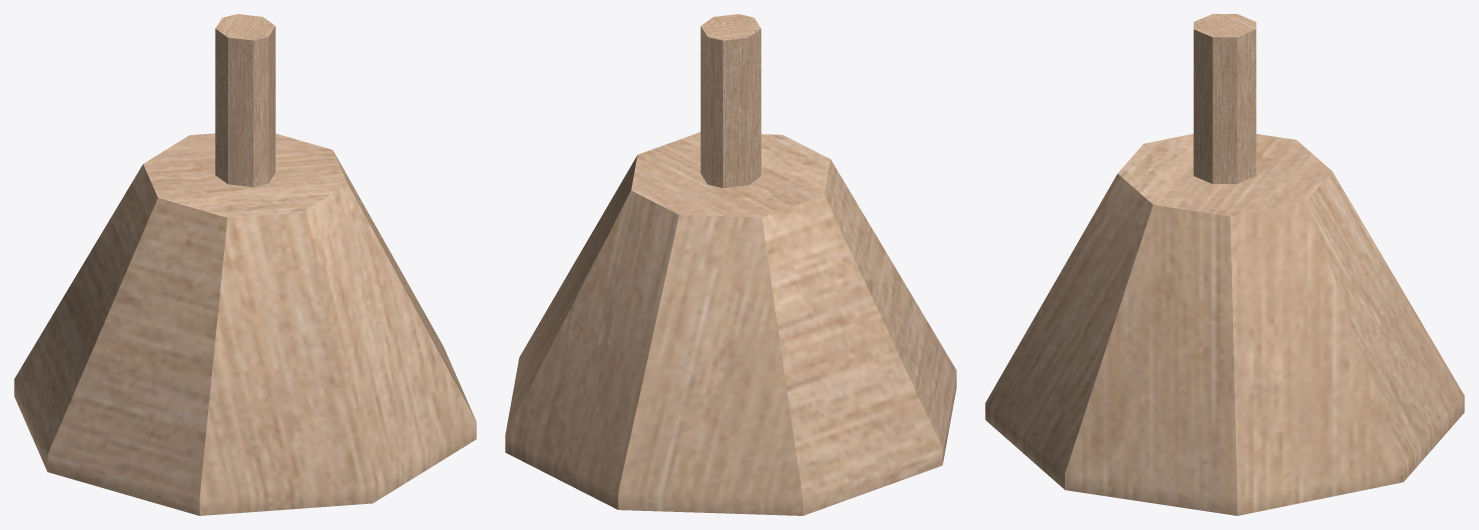
The model's file is light.FBX.
3 renders of one model, left to right at view 1: azimuth 30°, elevation 25°; view 2: azimuth 150°, elevation 25°; view 3: azimuth 270°, elevation 25°, orthographic.
Visible parts, largest first — view 1: light; view 2: light; view 3: light.
Part boxes in pixels (<box>): light: <box>14,14,476,515</box>; light: <box>505,14,956,515</box>; light: <box>985,14,1464,515</box>.
Size of the model in its own units: 40.21 by 36.72 by 40.83.
1 material, 1 textured.
